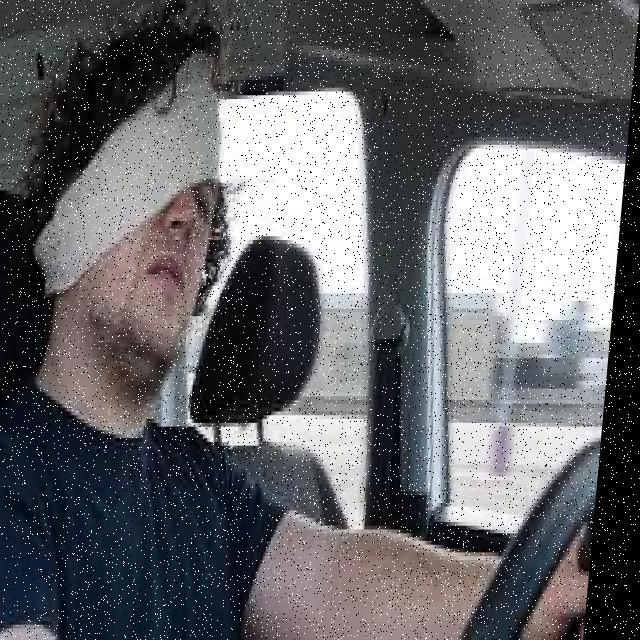noSeatbelt: (0, 320, 299, 640)
